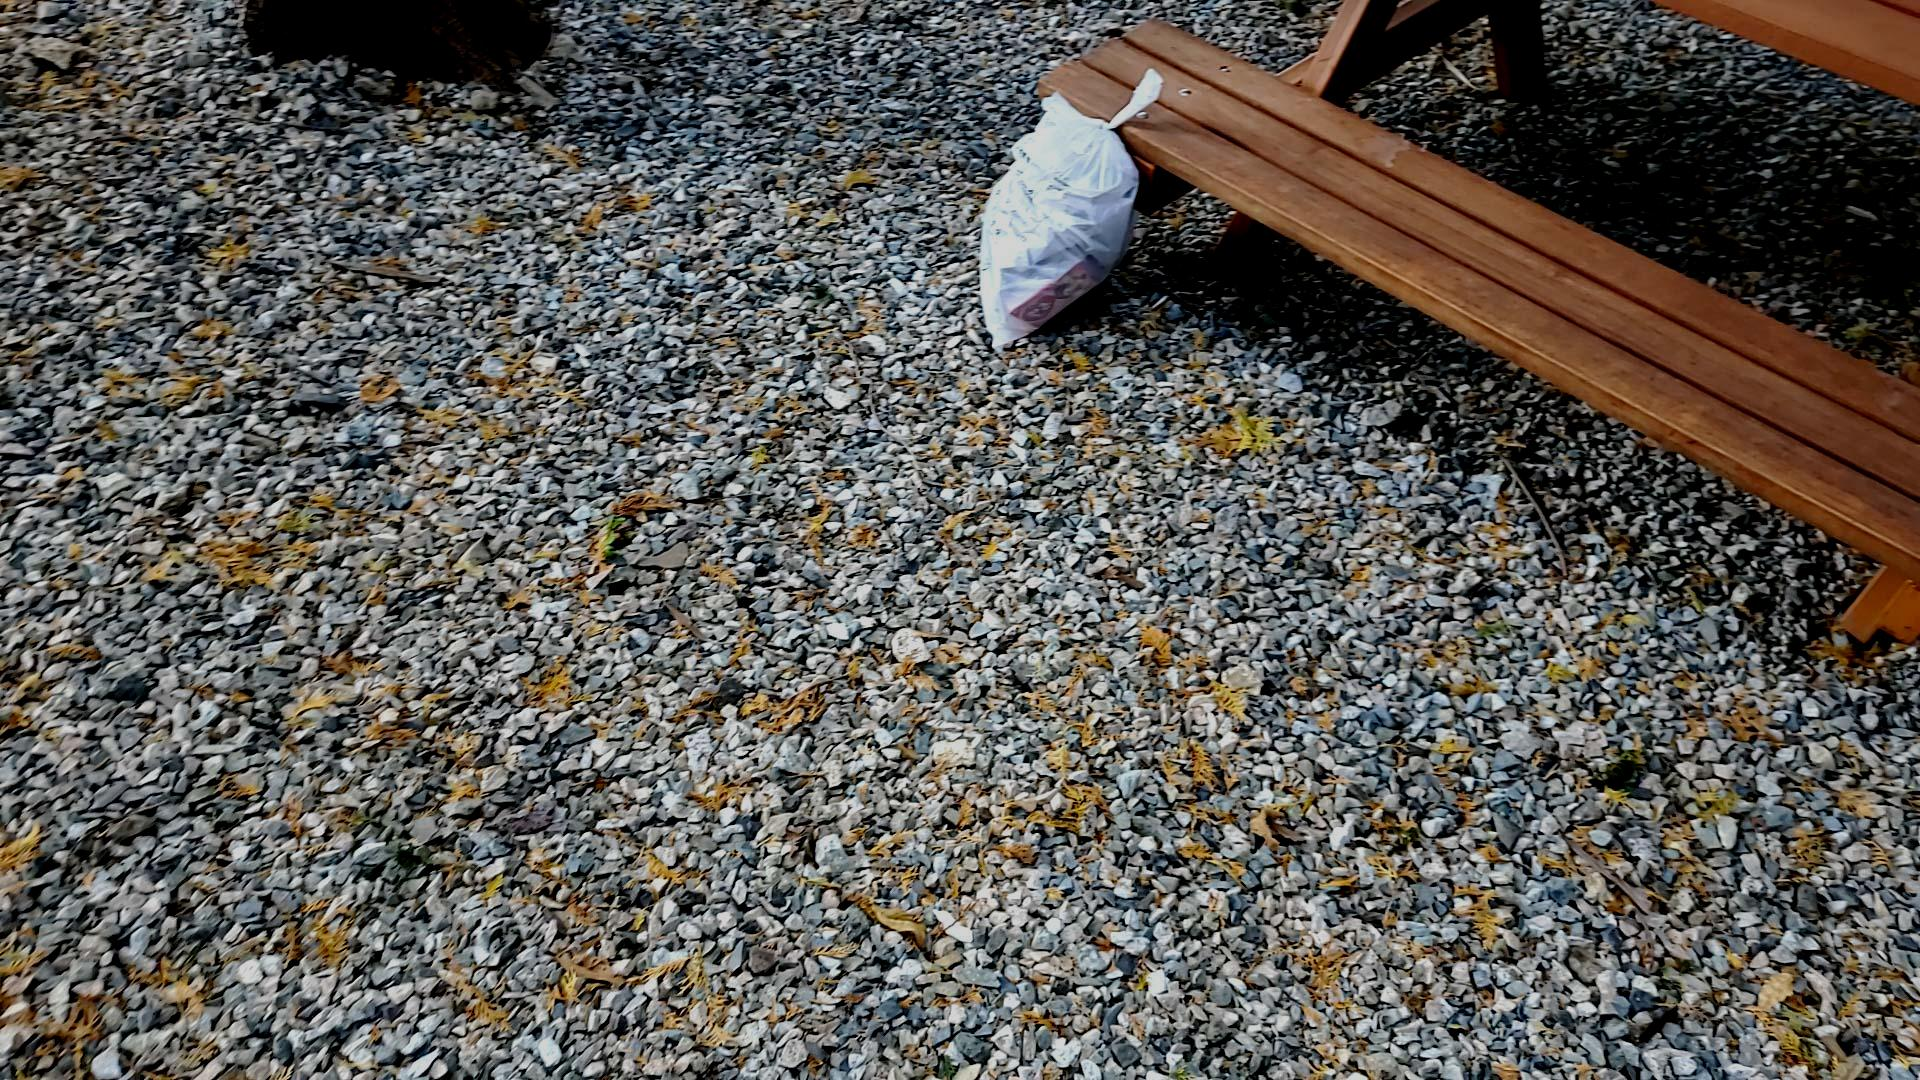white_bag: (948, 58, 1183, 364)
